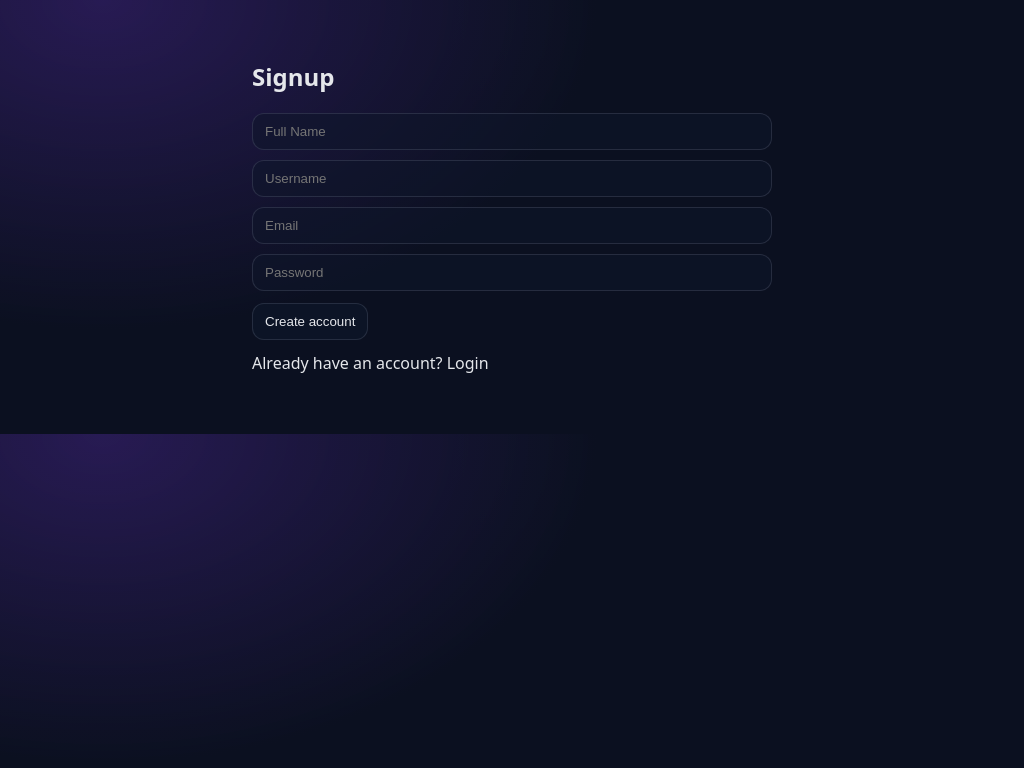
Test case: Signup page › shows existing username error
This screenshot has width=1024, height=768.
Type "Test User" into the field with placeholder "Full Name" at (512, 131), box [252,113,772,150]
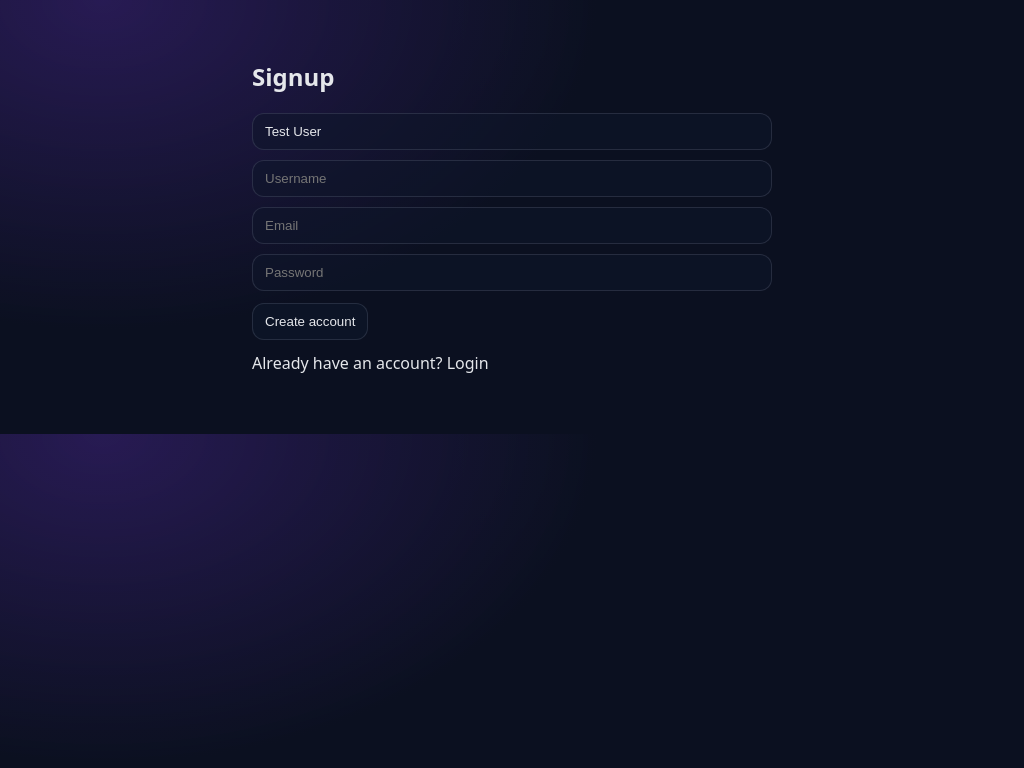
Type "existinguser" into the field with placeholder "Username" at (512, 178), box [252,160,772,197]
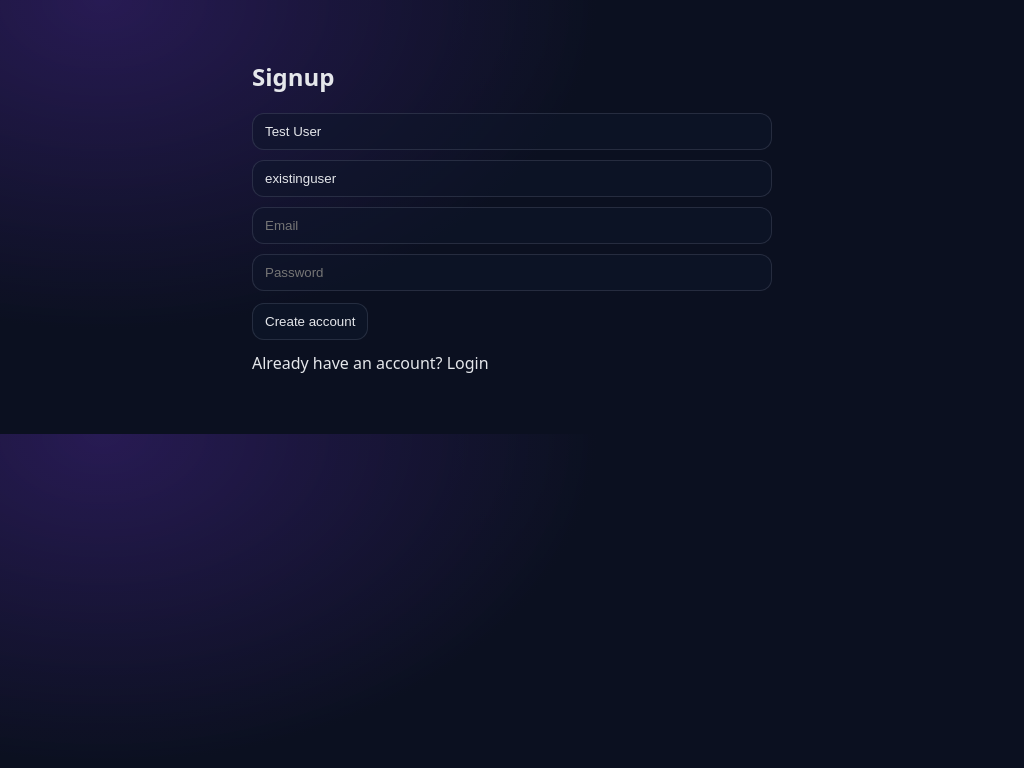
Type "existing@example.com" into the field with placeholder "Email" at (512, 225), box [252,207,772,244]
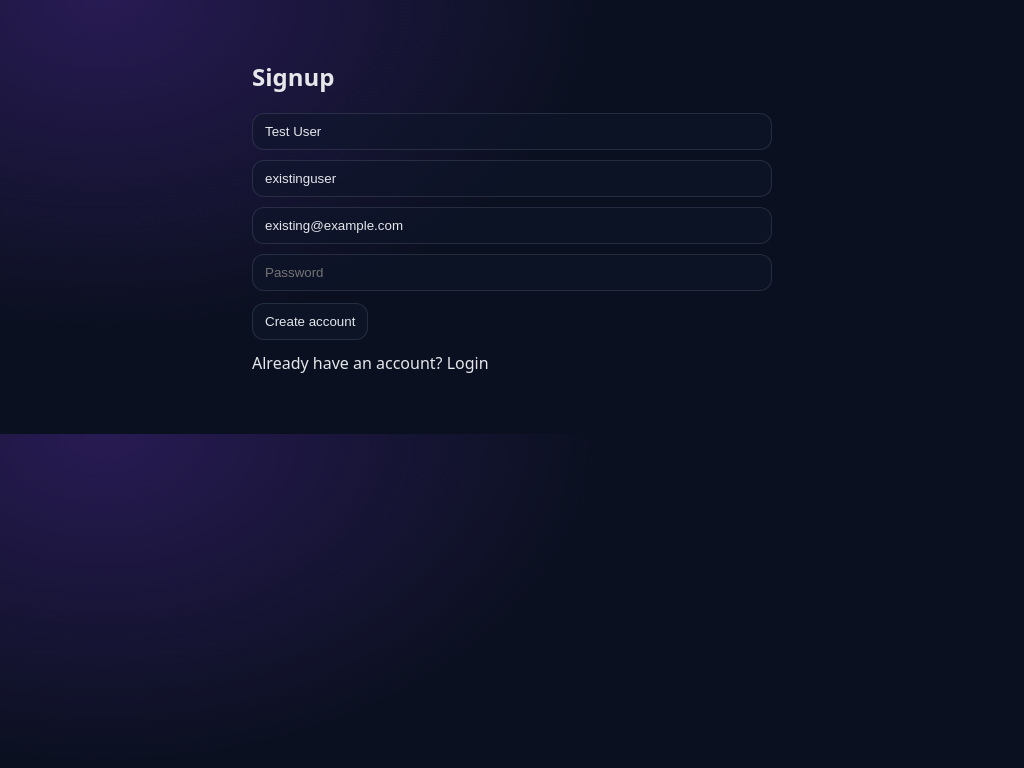
Type "Password123!" into the password field with placeholder "Password" at (512, 272), box [252,254,772,291]
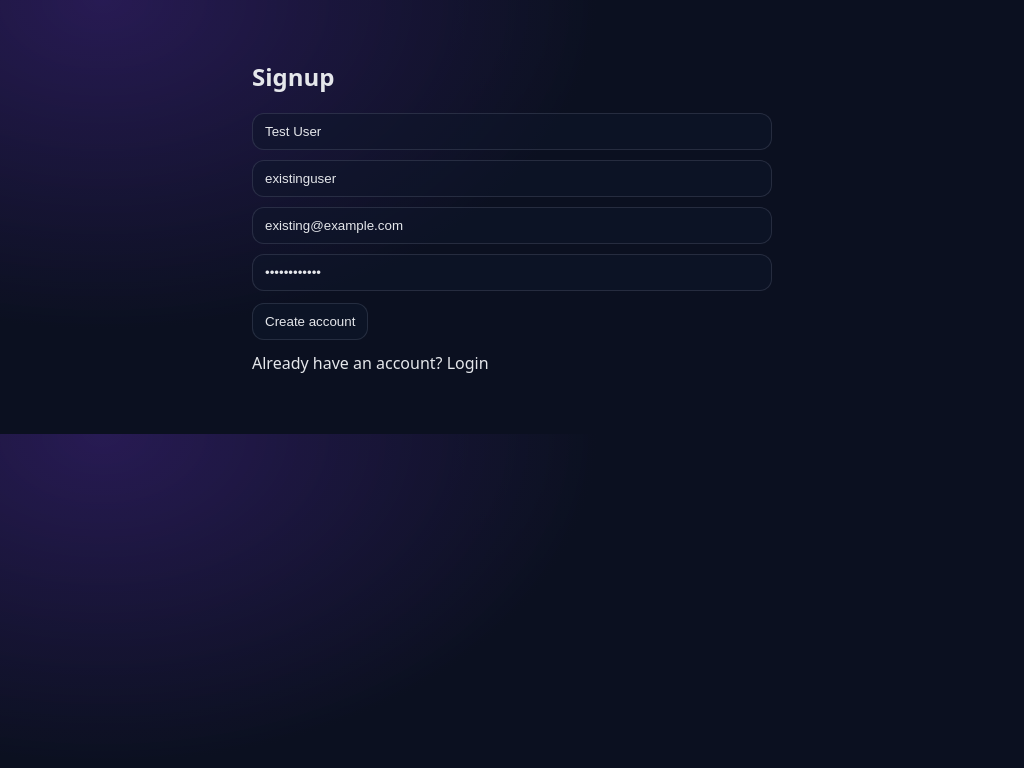
Click the button at (310, 321), box [252,303,368,340]
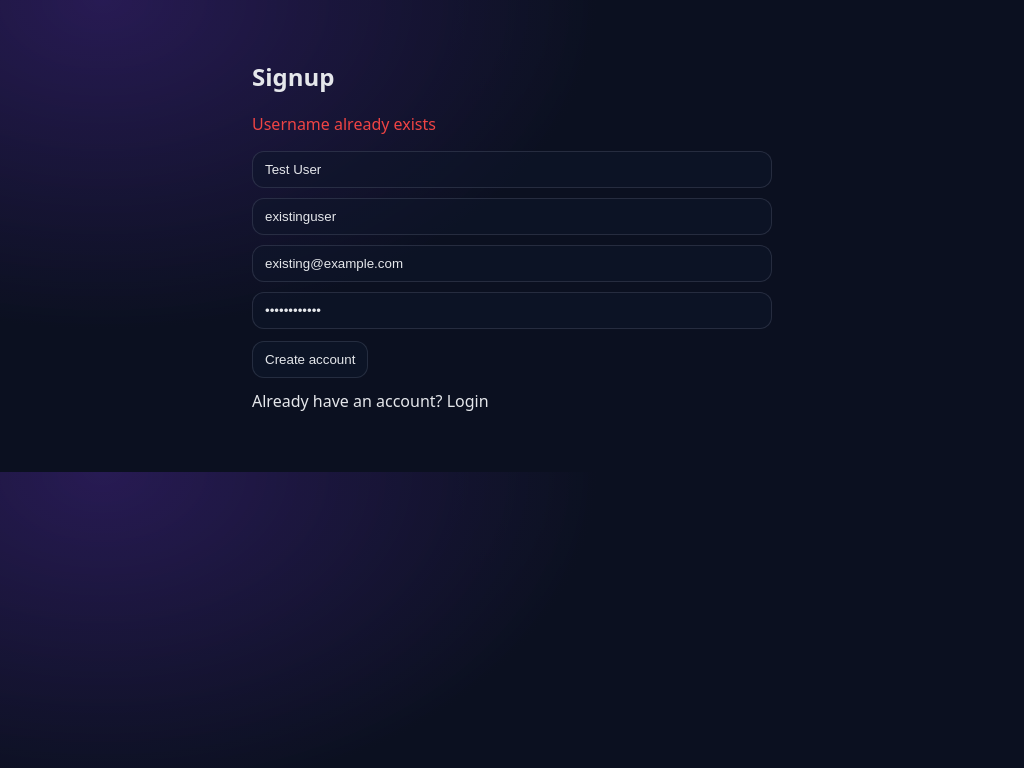
Check: the text "Username already exists" is shown, box [252,113,436,135]
